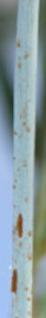Wheat: (12, 206, 30, 306)
